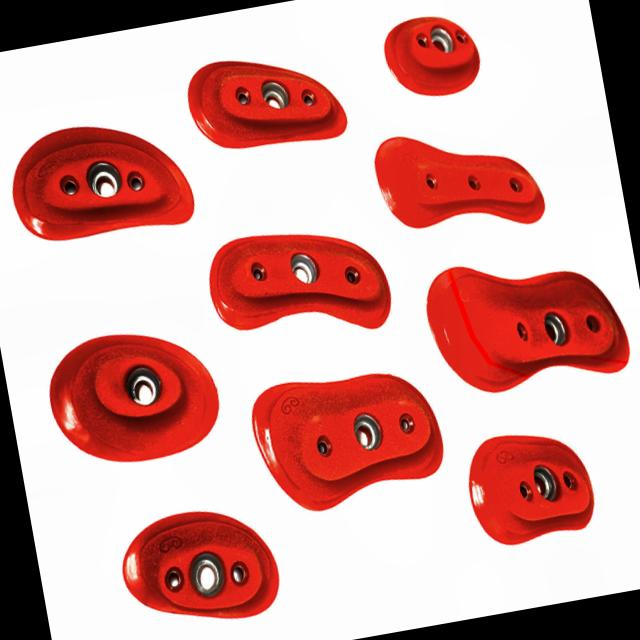Hold: (420, 238, 630, 408), (246, 360, 454, 520), (41, 314, 227, 475), (202, 207, 396, 357), (2, 110, 199, 254), (372, 112, 549, 252), (116, 497, 284, 638), (182, 39, 350, 163), (466, 418, 602, 550), (379, 2, 486, 108)
